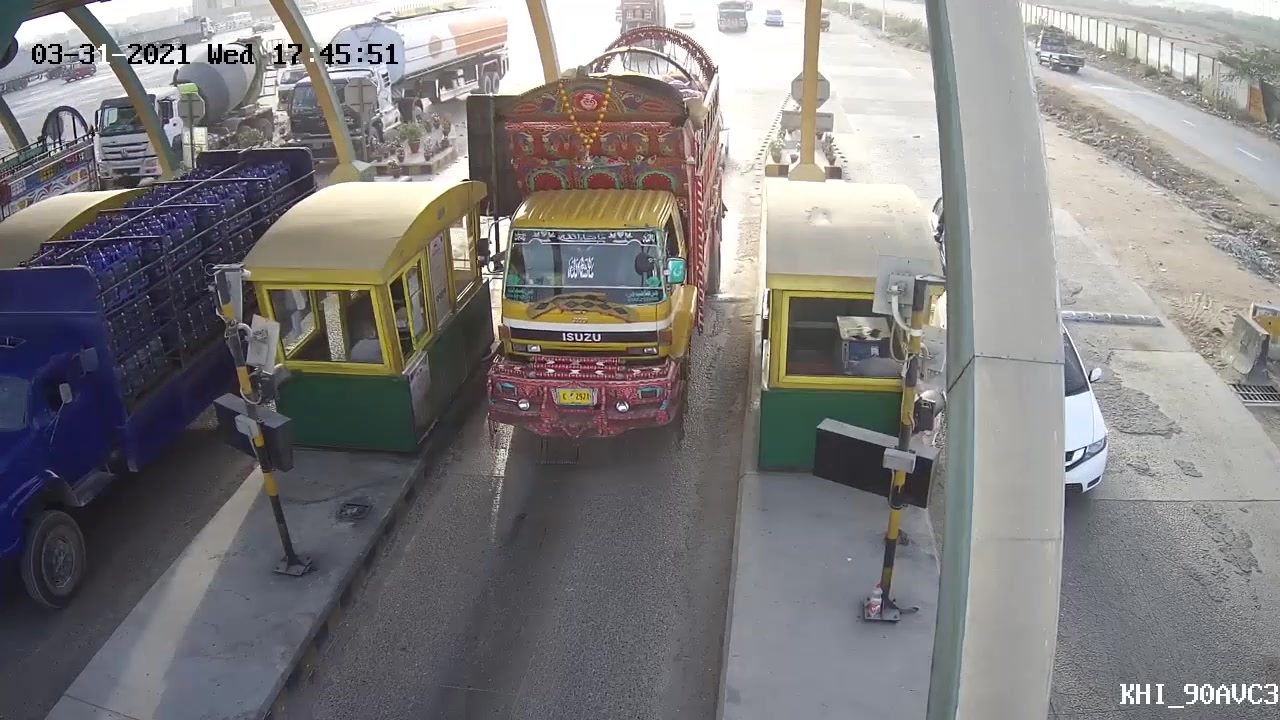F5: (483, 31, 732, 470)
